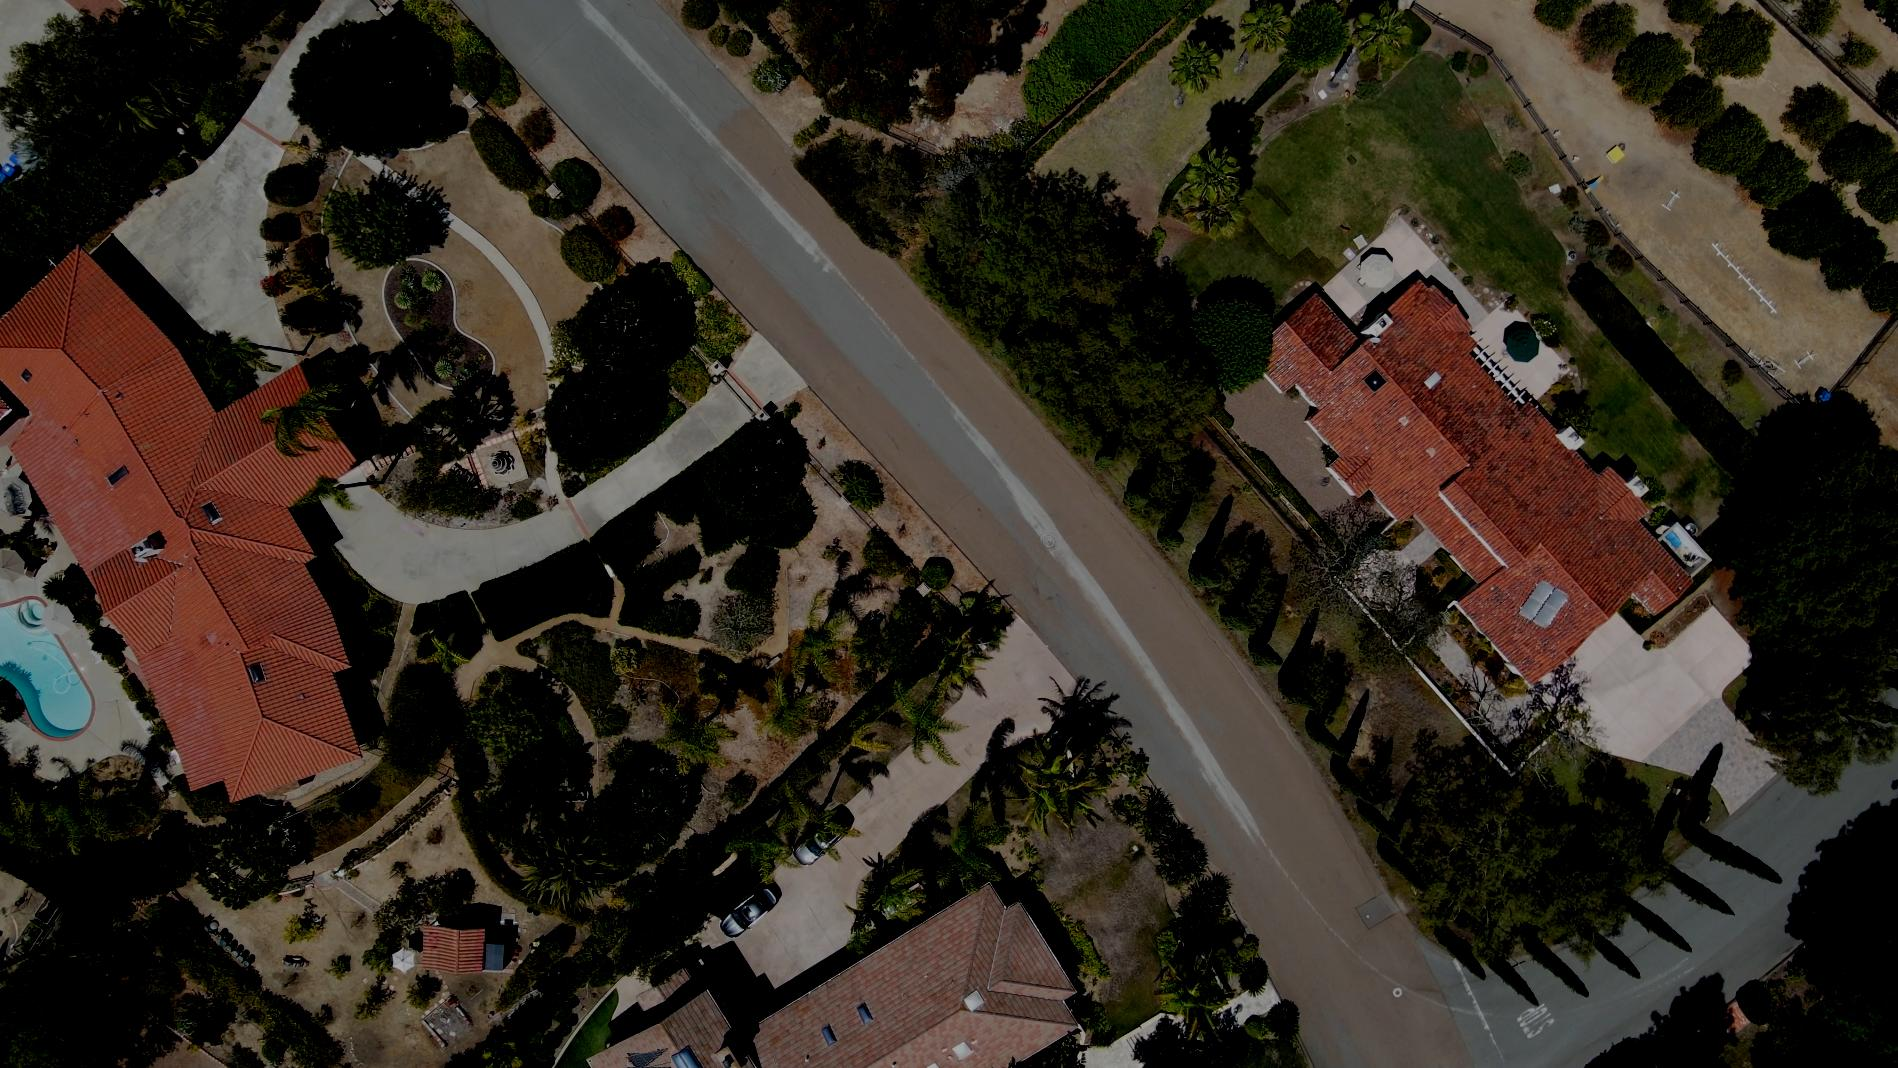solar-panels: (1519, 580, 1569, 630), (626, 1047, 667, 1068)
